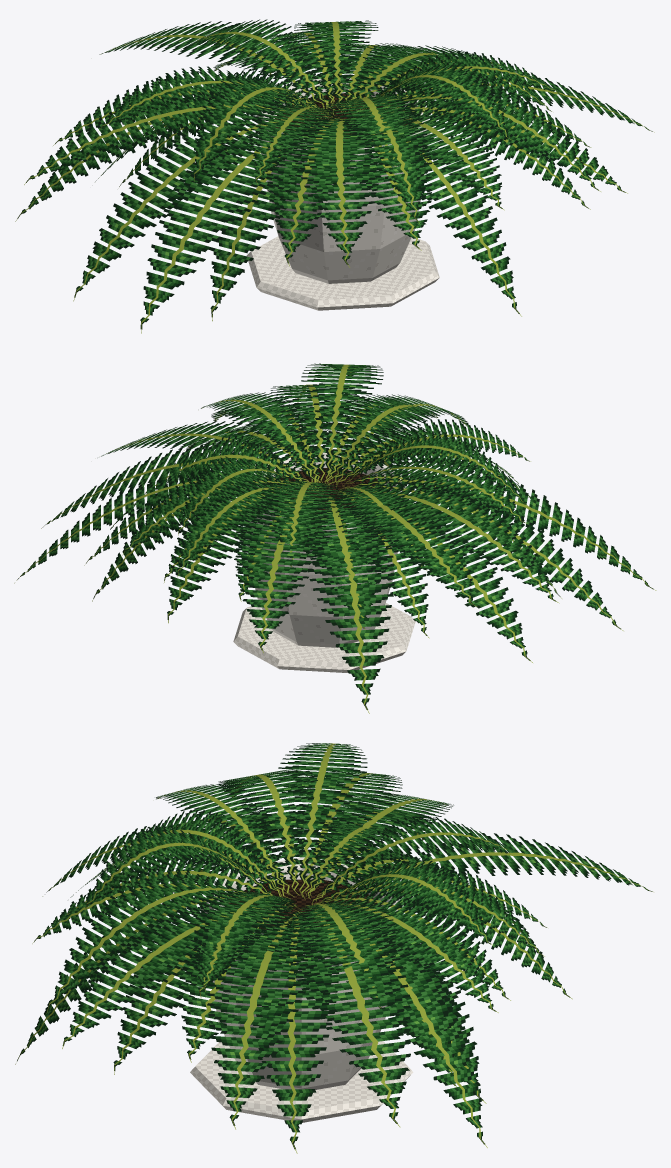
File: BostonFern_v13.gltf
3 views of the same model, one above another, from view 1: azimuth 30°, elevation 25°; view 2: azimuth 150°, elevation 25°; view 3: azimuth 270°, elevation 25° (orthographic). The views are drawn at different scales.
Parts seen in each view (by area): view 1: Pot.004, FrondCard_033, Saucer.004, FrondCard_022, FrondCard_011, FrondCard_013, FrondCard_003, FrondCard_030, FrondCard_021, FrondCard_018, FrondCard_027, FrondCard_017 (+26 smaller); view 2: Pot.004, FrondCard_024, FrondCard_003, FrondCard_023, Saucer.004, FrondCard_010, FrondCard_009, FrondCard_033, FrondCard_022, FrondCard_004, FrondCard_041, FrondCard_020 (+29 smaller); view 3: FrondCard_040, FrondCard_028, FrondCard_019, FrondCard_027, FrondCard_034, Pot.004, FrondCard_035, Saucer.004, FrondCard_012, FrondCard_029, FrondCard_007, FrondCard_023 (+28 smaller).
Part boxes in pixels (<box>): Pot.004: <box>256,78,430,283</box>; FrondCard_033: <box>140,123,315,333</box>; Saucer.004: <box>246,236,439,310</box>; FrondCard_022: <box>73,114,328,301</box>; FrondCard_011: <box>292,118,384,267</box>; FrondCard_013: <box>390,126,521,316</box>; FrondCard_003: <box>24,92,321,184</box>; FrondCard_030: <box>266,118,356,266</box>; FrondCard_021: <box>193,76,329,181</box>; FrondCard_018: <box>392,109,504,210</box>; FrondCard_027: <box>364,83,600,191</box>; FrondCard_017: <box>210,121,313,321</box>; Pot.004: <box>244,452,406,647</box>; FrondCard_024: <box>307,498,394,713</box>; FrondCard_003: <box>352,486,559,603</box>; FrondCard_023: <box>235,499,331,652</box>; Saucer.004: <box>233,603,415,672</box>; FrondCard_010: <box>338,492,476,606</box>; FrondCard_009: <box>306,496,384,629</box>; FrondCard_033: <box>339,470,656,590</box>; FrondCard_022: <box>338,481,623,630</box>; FrondCard_004: <box>301,363,383,483</box>; FrondCard_041: <box>360,500,532,662</box>; FrondCard_020: <box>261,480,343,566</box>; FrondCard_040: <box>290,905,410,1127</box>; FrondCard_028: <box>207,909,313,1129</box>; FrondCard_019: <box>324,910,487,1147</box>; FrondCard_027: <box>46,876,255,1013</box>; FrondCard_034: <box>253,912,338,1153</box>; Pot.004: <box>200,857,399,1089</box>; FrondCard_035: <box>62,904,295,1048</box>; Saucer.004: <box>190,1041,413,1122</box>; FrondCard_012: <box>324,898,498,1012</box>; FrondCard_029: <box>276,743,367,897</box>; FrondCard_007: <box>284,901,396,1008</box>; FrondCard_023: <box>322,833,652,903</box>.
Size of the model in its own units: 7 by 2.64 by 6.04.
4 materials, 4 textured.
